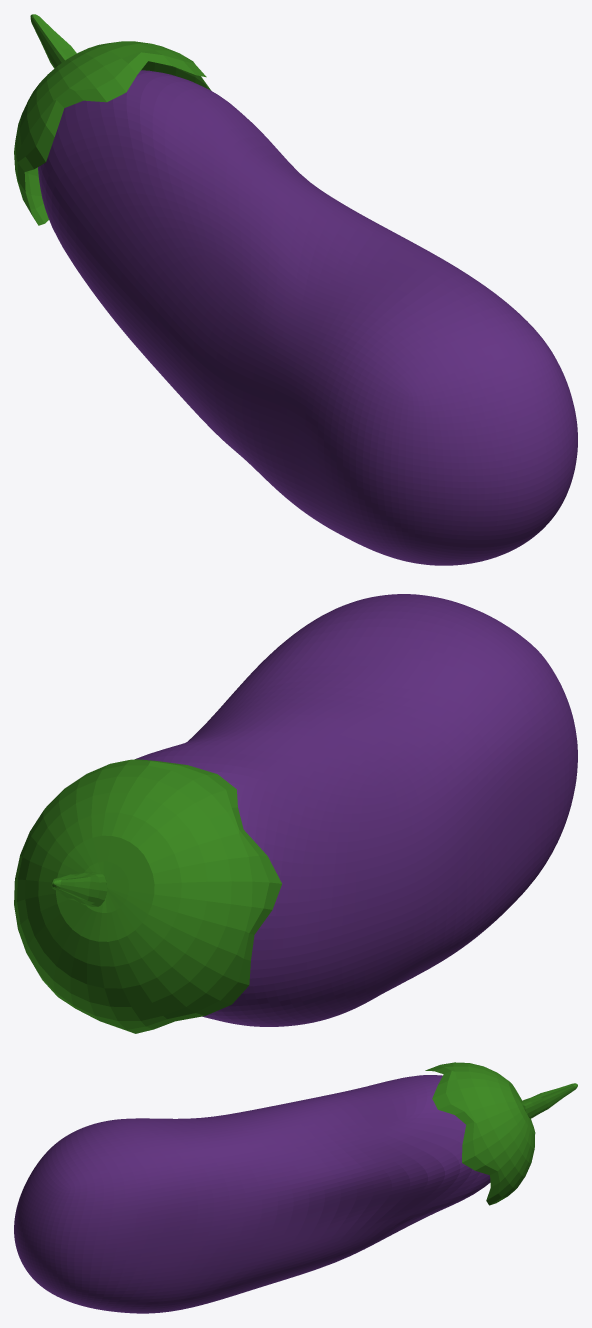
Rendered from eggplant.fbx.
The picture shows the model from 3 angles, top to bottom: view 1: azimuth 30°, elevation 25°; view 2: azimuth 150°, elevation 25°; view 3: azimuth 270°, elevation 25°; orthographic projection. The views are drawn at different scales.
Visible parts, largest first — view 1: Cube, Sphere.001; view 2: Cube, Sphere.001; view 3: Cube, Sphere.001.
Boxes of the visible parts, x1,y1,x2,y2 form: Cube: [38, 70, 577, 565]; Sphere.001: [14, 14, 211, 225]; Cube: [135, 594, 577, 1026]; Sphere.001: [14, 759, 281, 1033]; Cube: [14, 1075, 490, 1313]; Sphere.001: [425, 1062, 577, 1205].
Size of the model in its own units: 165 by 204 by 473.
